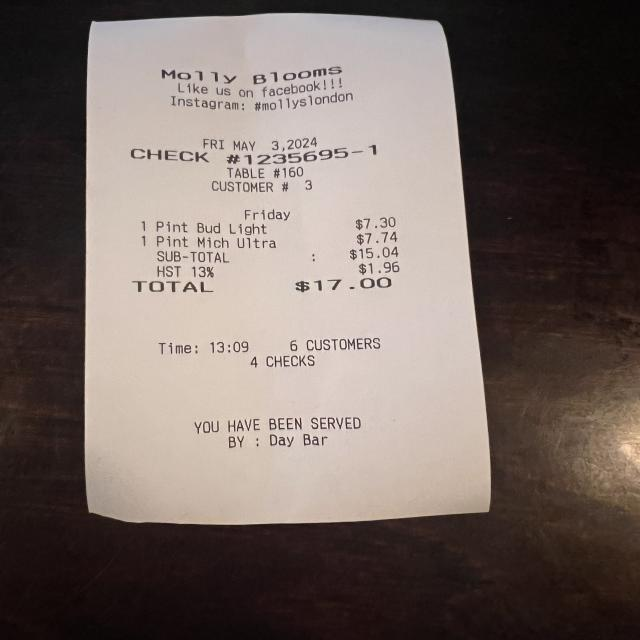item: (148, 215, 409, 238), (149, 229, 409, 250)
store_name: (148, 62, 355, 86)
total_amount: (124, 274, 408, 300)
transaction_date: (197, 133, 324, 154)
